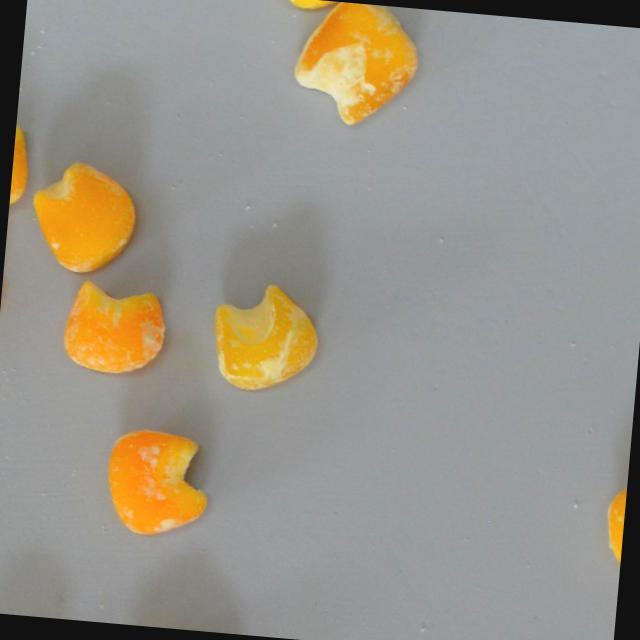pelicula: (289, 0, 423, 128), (206, 276, 323, 394), (27, 157, 139, 275), (103, 423, 212, 540), (58, 274, 169, 375), (598, 475, 627, 573), (8, 120, 31, 214)
